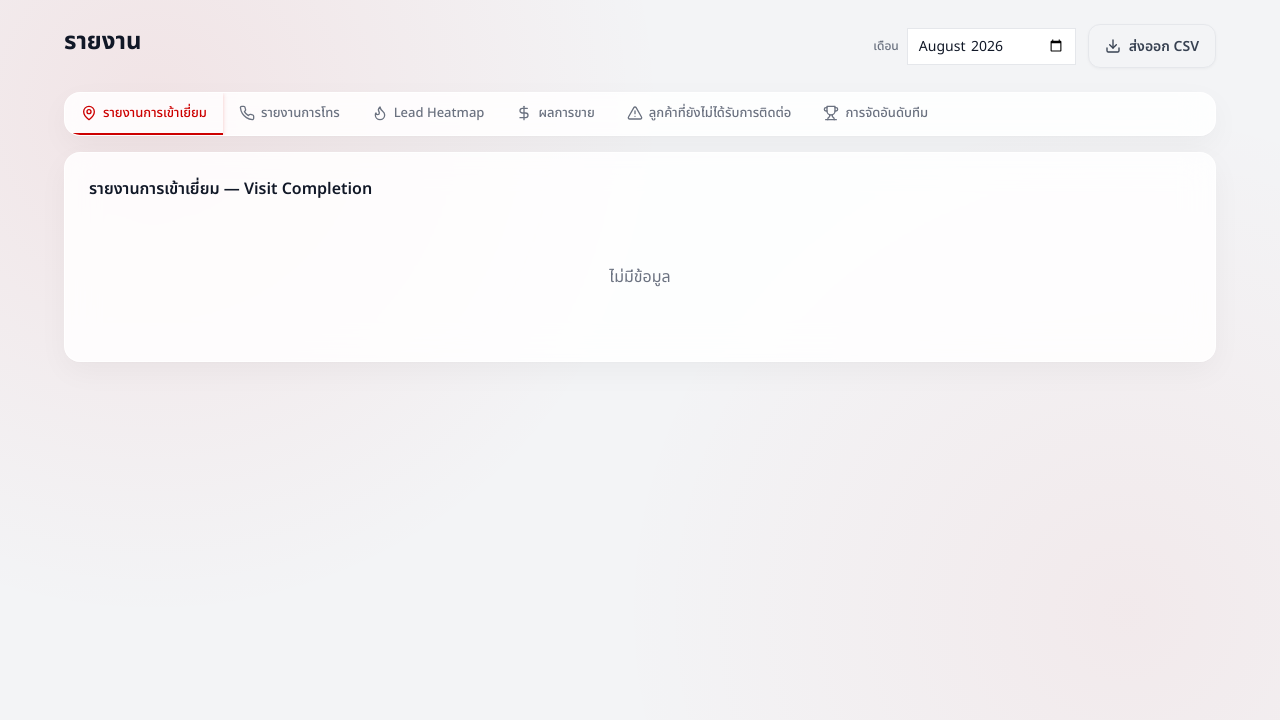
Test case: Reports › switches tabs on click
# Click the second tab
Click the tab "รายงานการโทร".
click(289, 114)  # box [223,93,356,135]
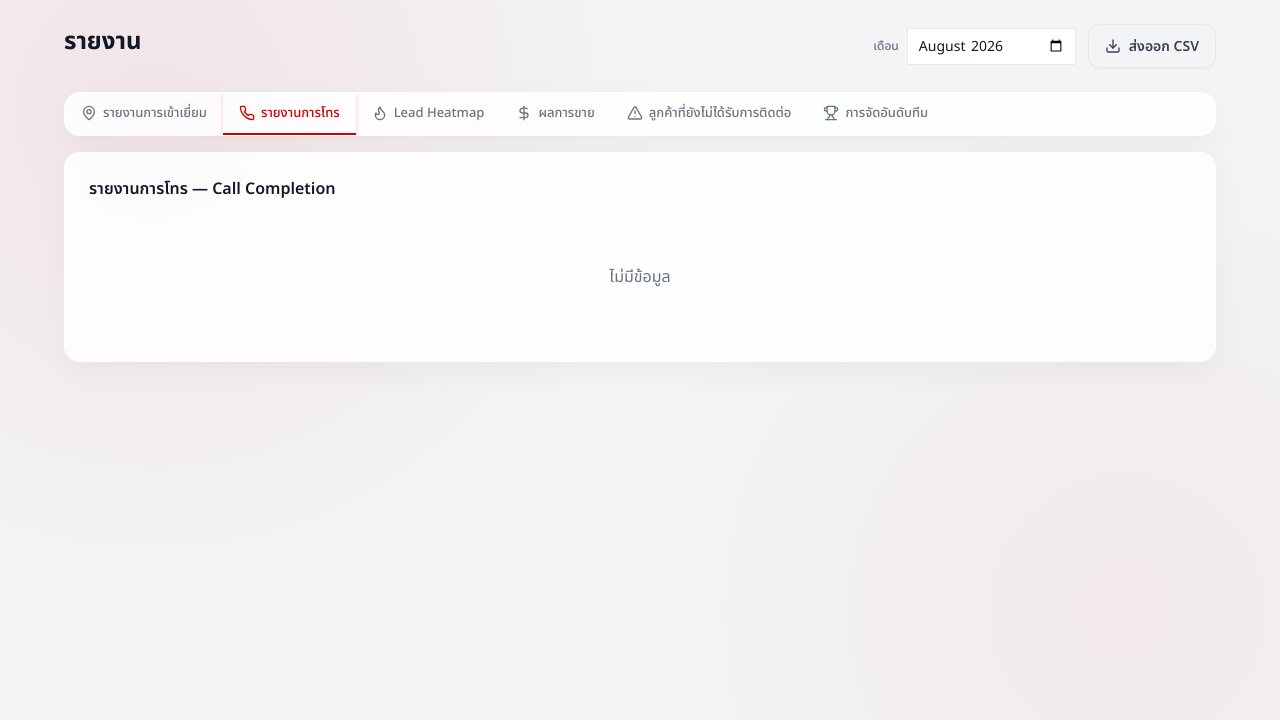
Check: the heading "รายงานการโทร — Call Completion" is shown, box [89,177,336,201]
# Click lead heatmap tab
Click the tab "Lead Heatmap".
click(428, 114)  # box [356,93,500,135]
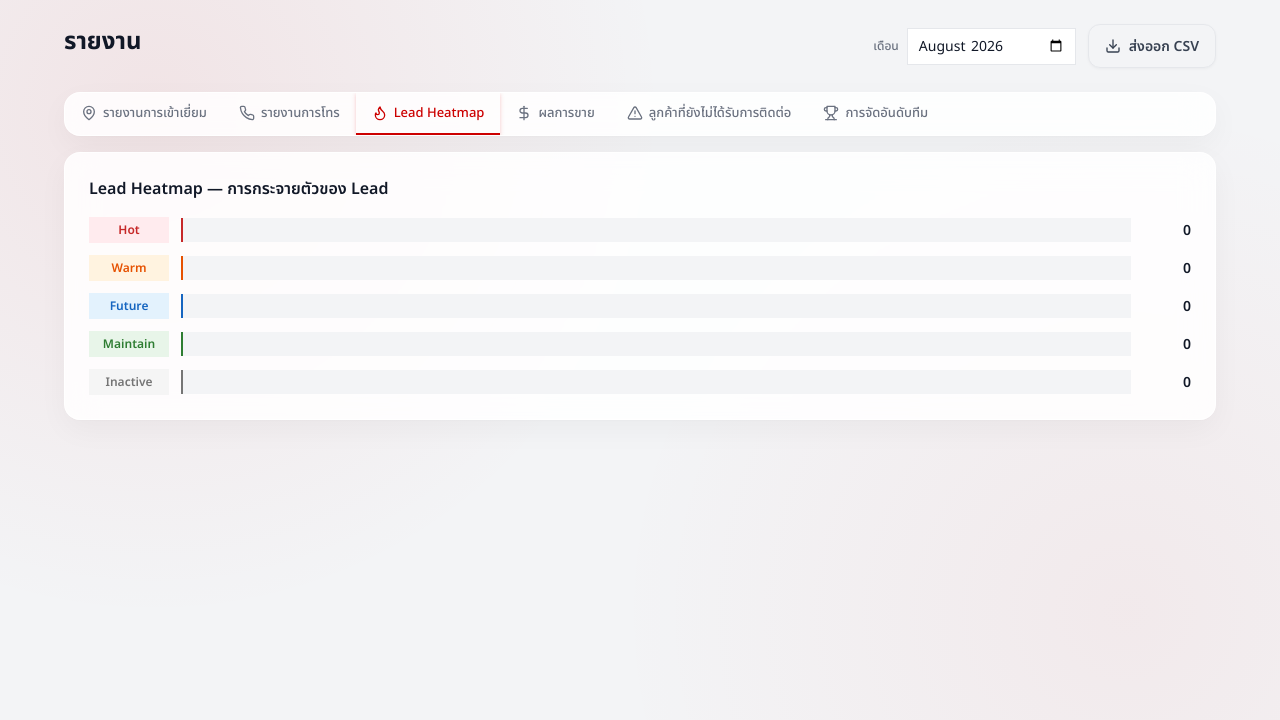
Check: the heading "Lead Heatmap — การกระจายตัวของ Lead" is shown, box [89,177,388,201]
# Click sales performance tab
Click the tab "ผลการขาย".
click(556, 114)  # box [500,93,611,135]
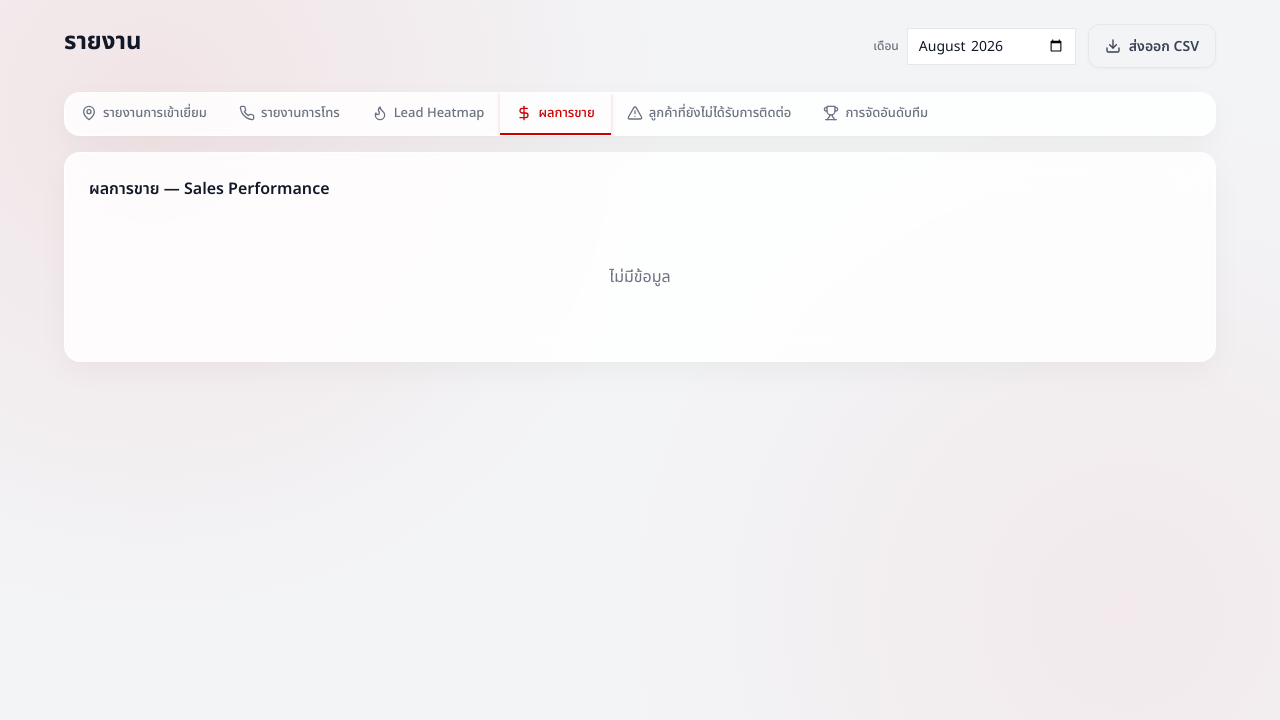
Check: the heading "ผลการขาย — Sales Performance" is shown, box [89,177,330,201]
# Click coverage gaps
Click the tab "ลูกค้าที่ยังไม่ได้รับการติดต่อ".
click(709, 114)  # box [611,93,807,135]
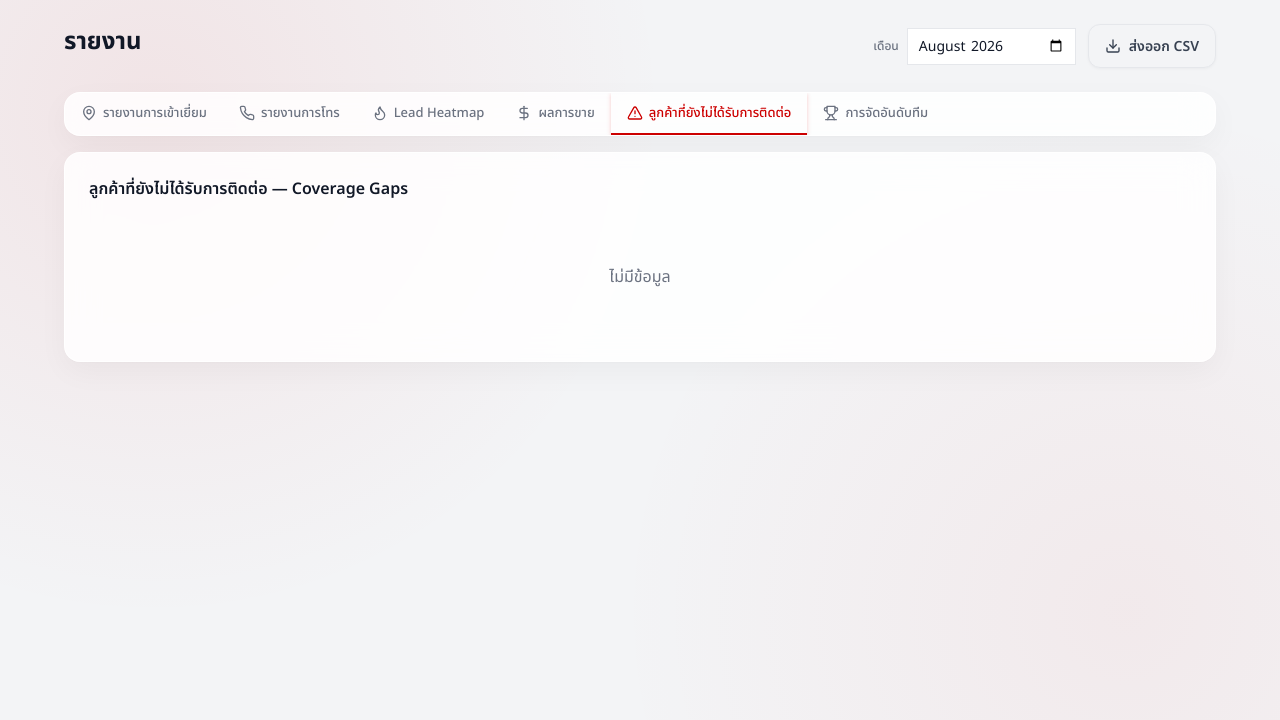
Check: the heading "ลูกค้าที่ยังไม่ได้รับการติดต่อ — Coverage Gaps" is shown, box [89,177,408,201]
# Back to visit report
Click the tab "รายงานการเข้าเยี่ยม".
click(144, 114)  # box [65,93,223,135]
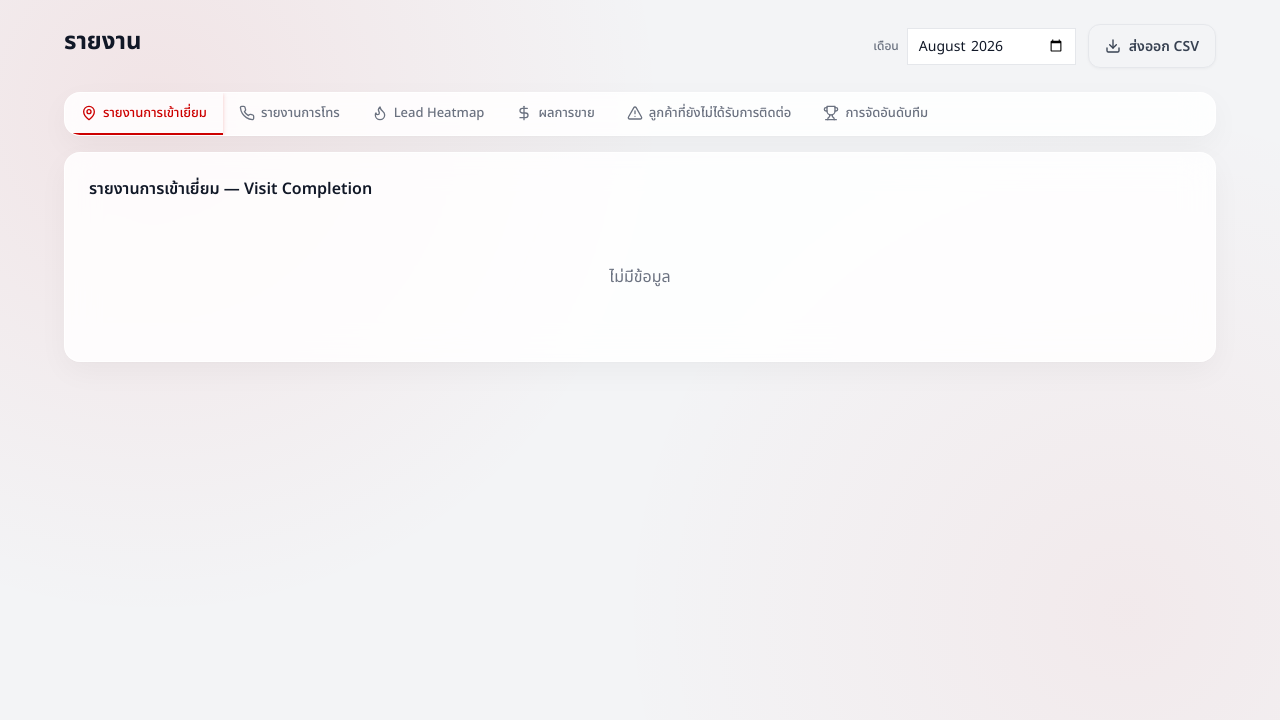
Check: the heading "รายงานการเข้าเยี่ยม — Visit Completion" is shown, box [89,177,372,201]
